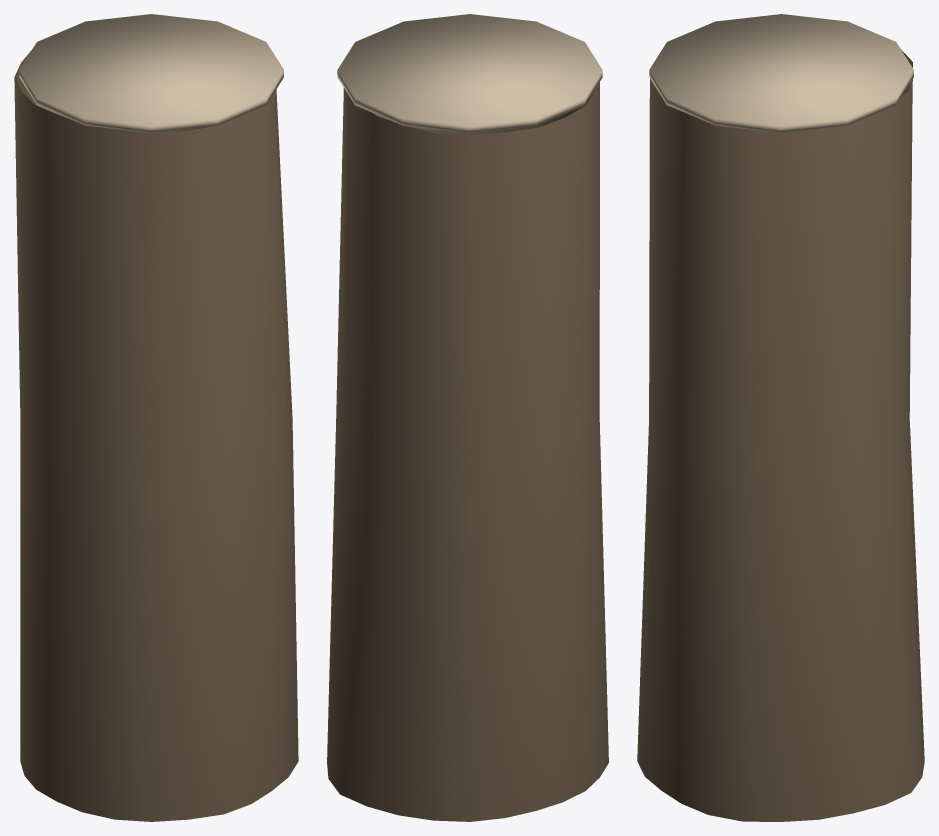
The model's file is rail_post.glb.
3 views of the same model, side by side, from view 1: azimuth 30°, elevation 25°; view 2: azimuth 150°, elevation 25°; view 3: azimuth 270°, elevation 25° (orthographic).
Parts seen in each view (by area): view 1: g_bark, g_endgrain; view 2: g_bark, g_endgrain; view 3: g_bark, g_endgrain.
Part boxes in pixels (box(x1,y1,x2,y2)): g_bark: box(14, 50, 298, 821); g_endgrain: box(19, 14, 283, 132); g_bark: box(327, 82, 608, 821); g_endgrain: box(337, 14, 602, 133); g_bark: box(637, 49, 924, 821); g_endgrain: box(649, 14, 913, 132).
Bounding box in the file's own units: 0.2096 × 0.576 × 0.2171.
